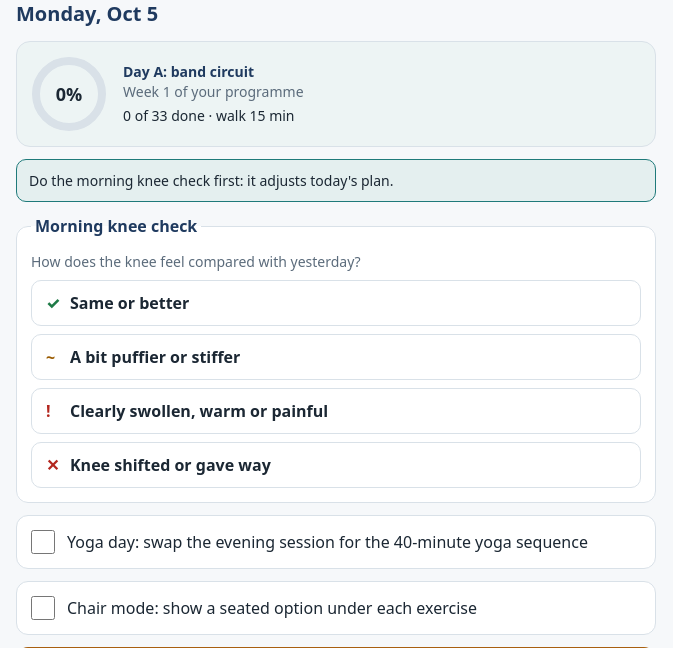
Scenario: KneeCheck › swollen -> rest day, walk skipped, target reset
The width and height of the screenshot is (673, 648).
Click the button "! Clearly swollen, warm or painful".
click(199, 411)  # box [31,388,641,434]
(page scrolled)
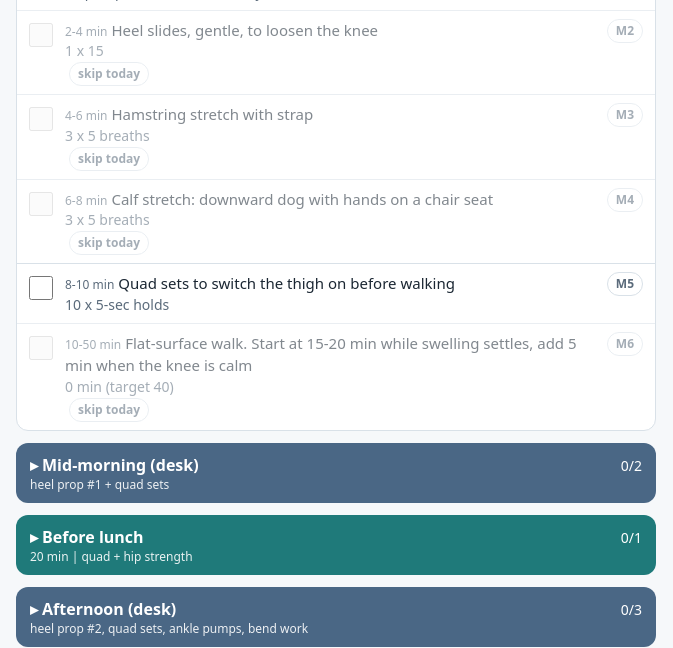
Now the checkbox labelled "Flat-surface walk" is disabled, box [29,336,53,360]
